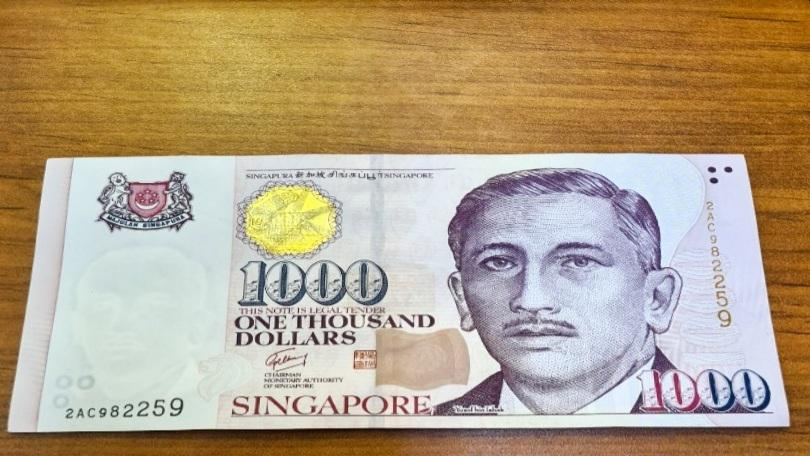1000SingaporeDollar: (49, 160, 770, 426)
